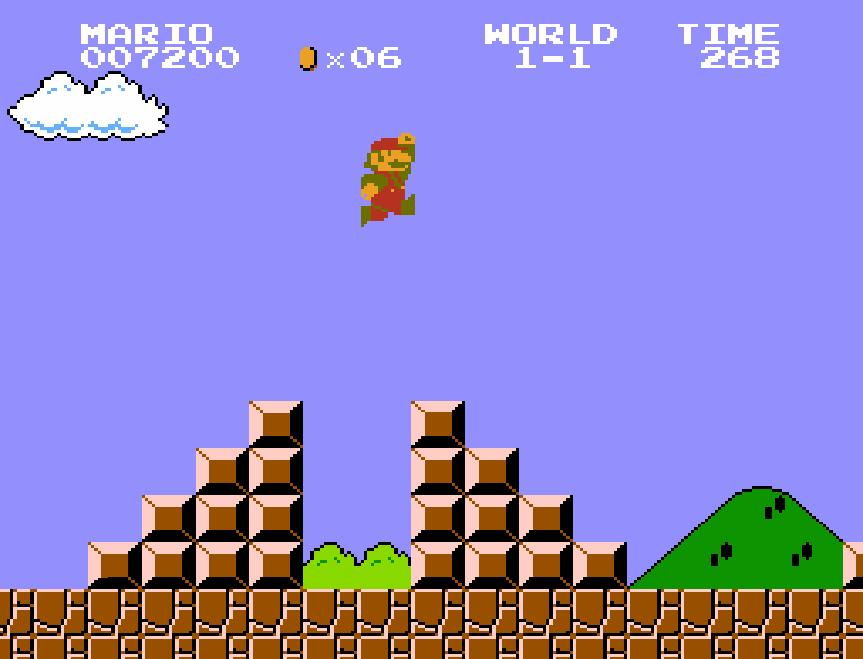big_mario: (358, 130, 416, 228)
